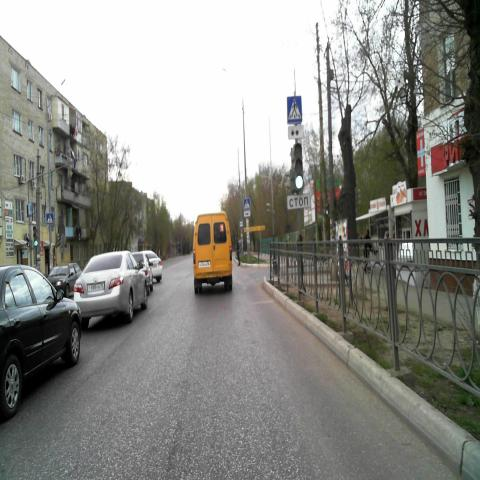8_15: (288, 125, 304, 138)
